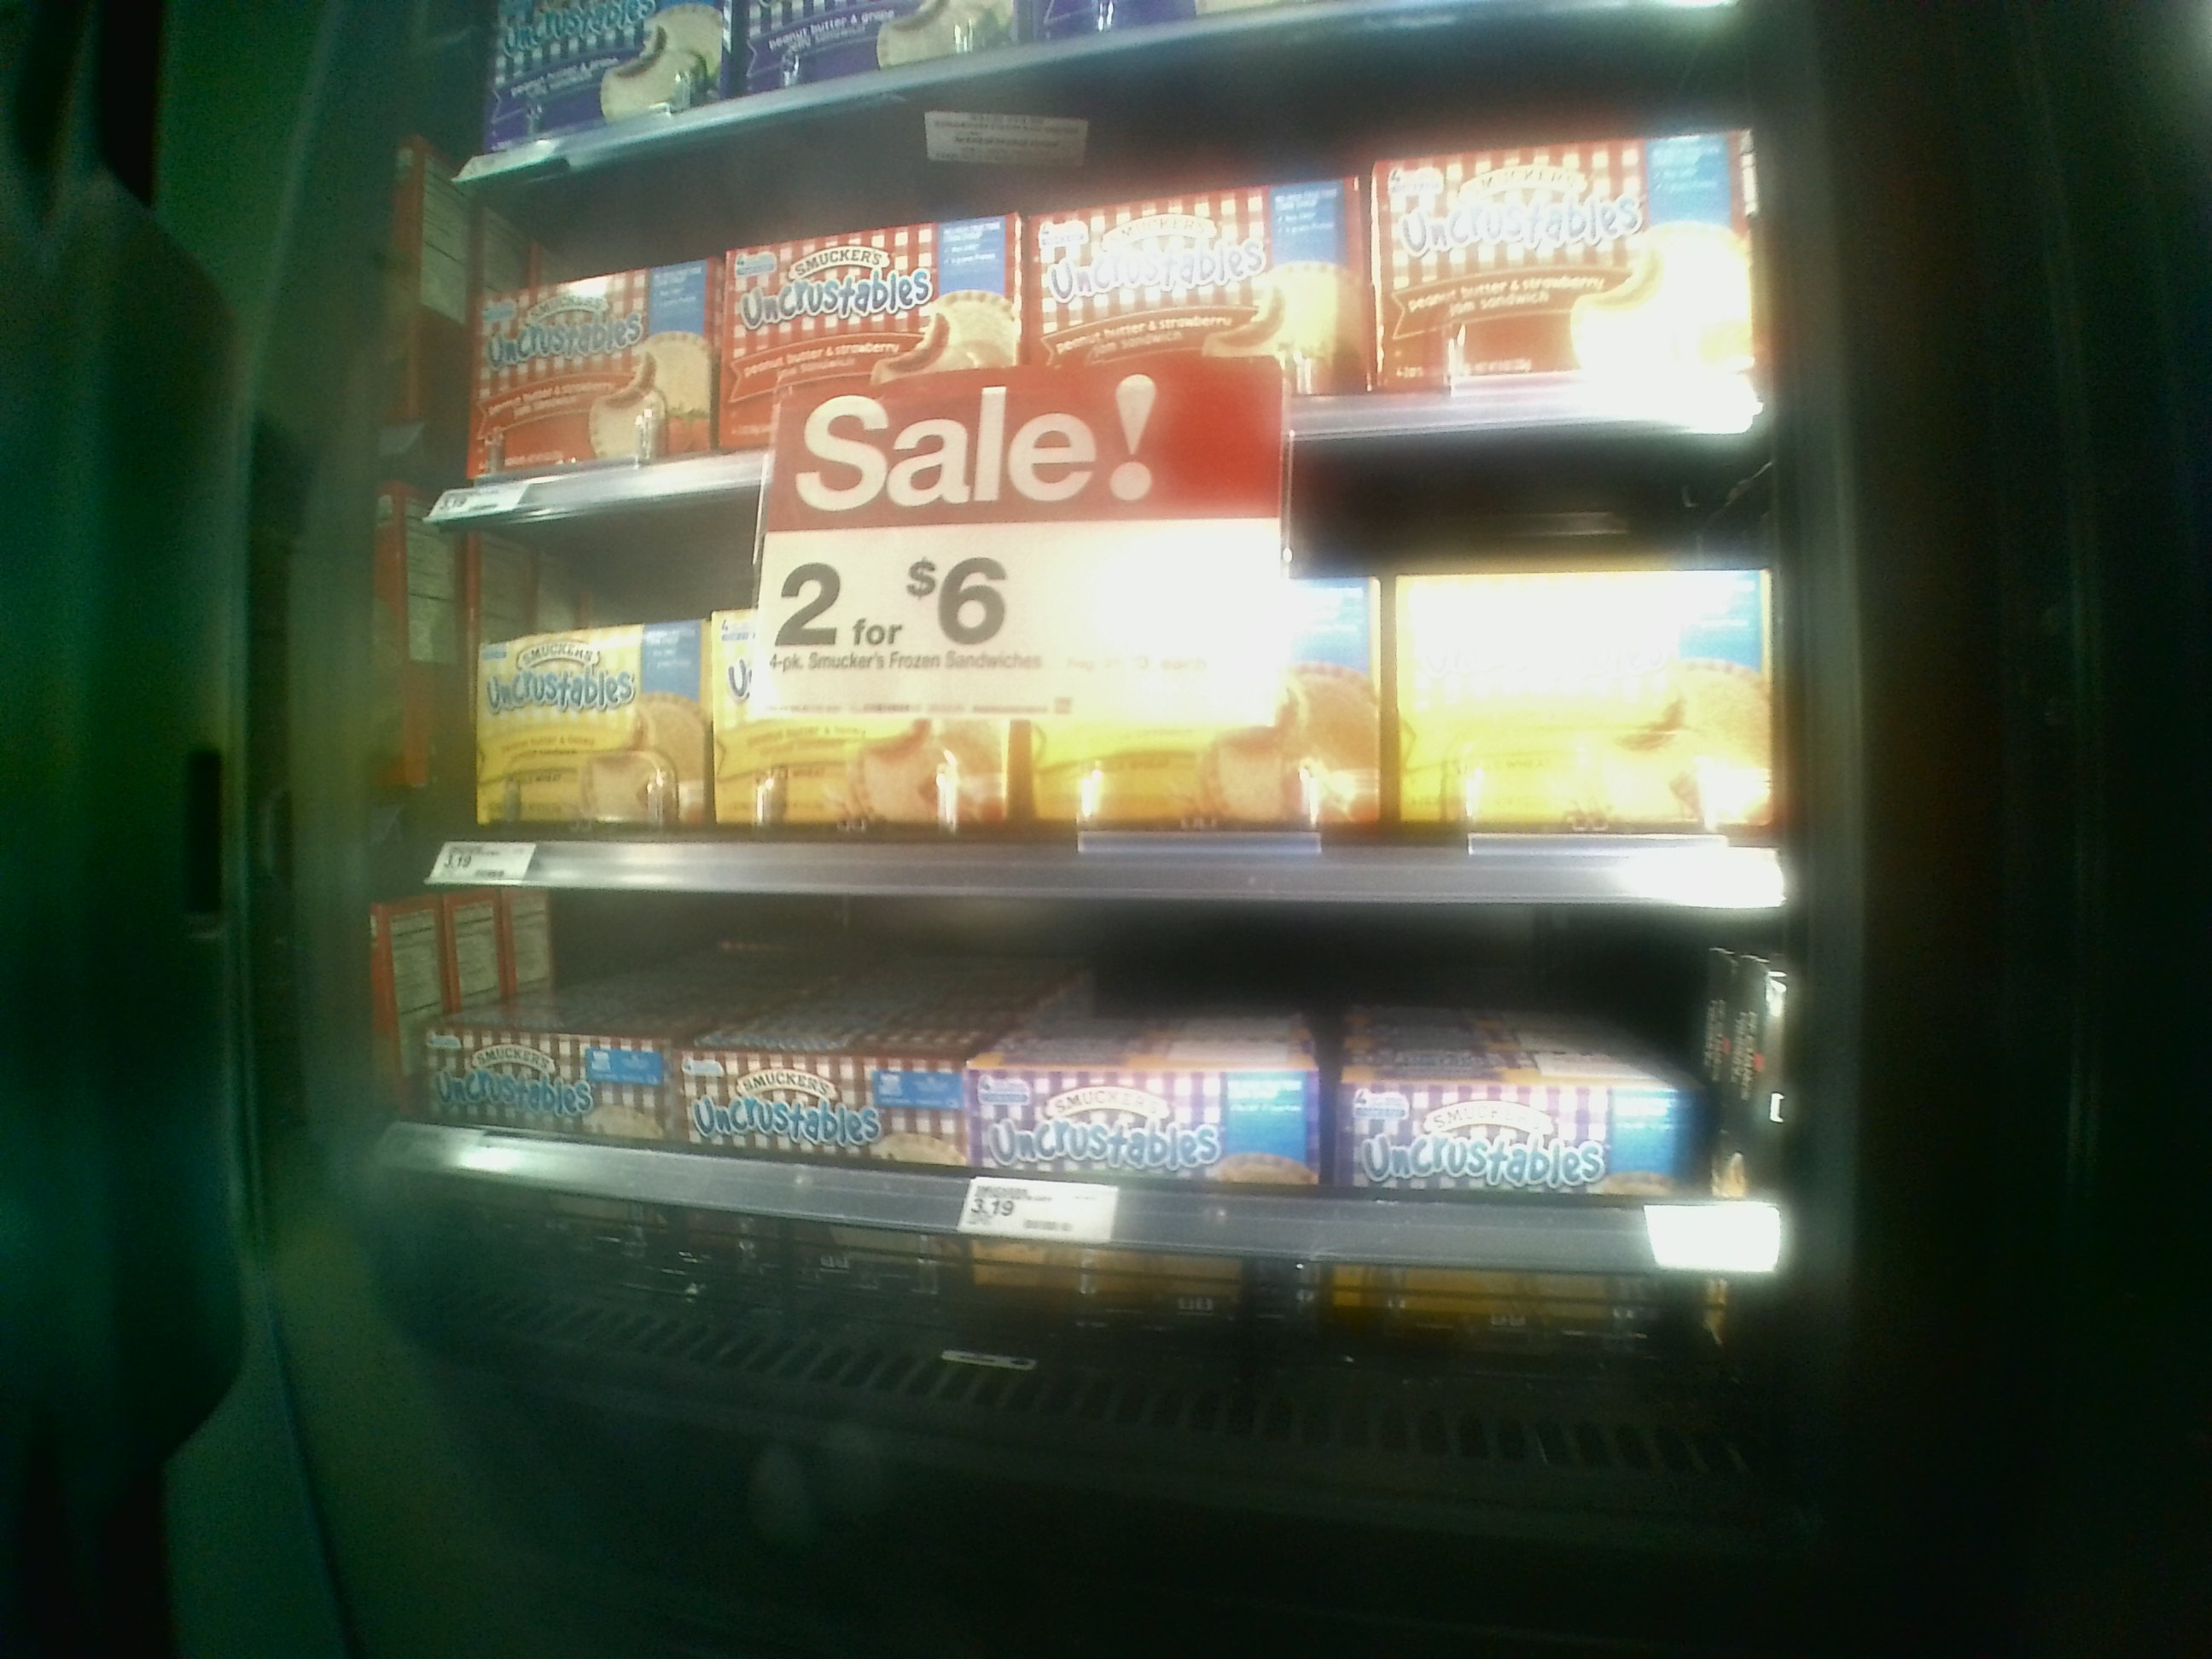shelf: (408, 845, 1785, 1408), (425, 484, 1797, 904), (435, 167, 1797, 484)
